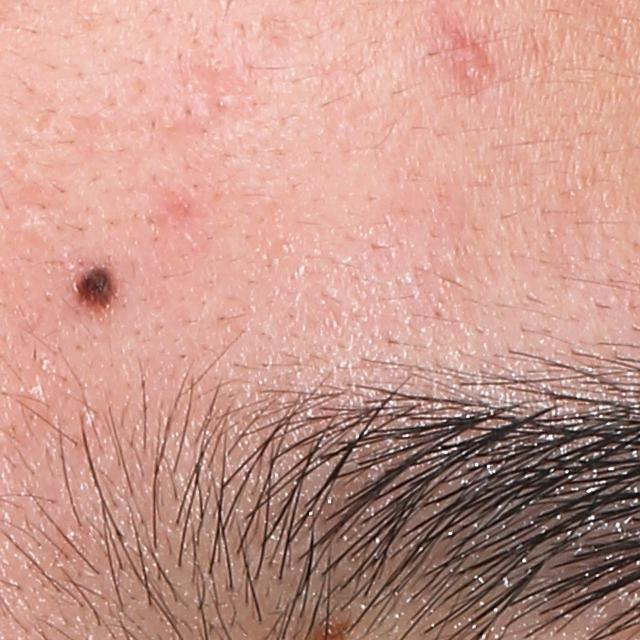nevus: (70, 260, 121, 321)
